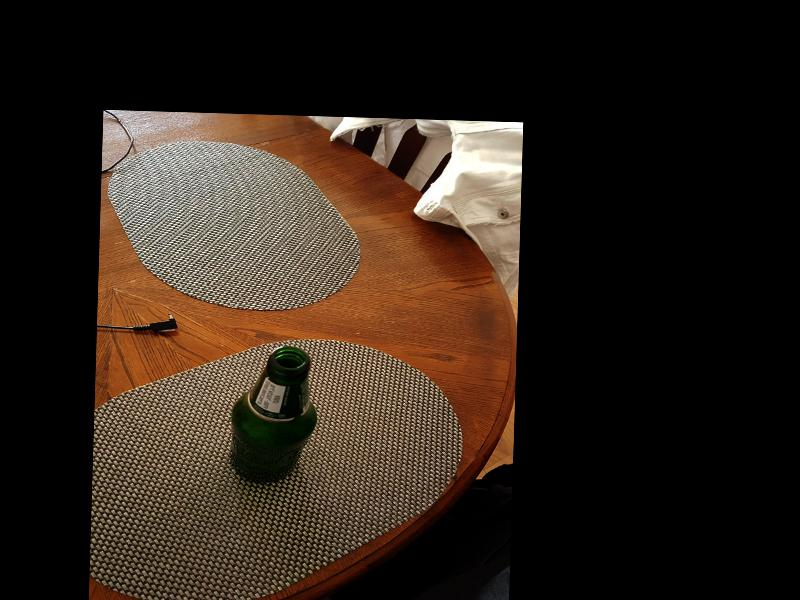Beer: (230, 346, 319, 485)
